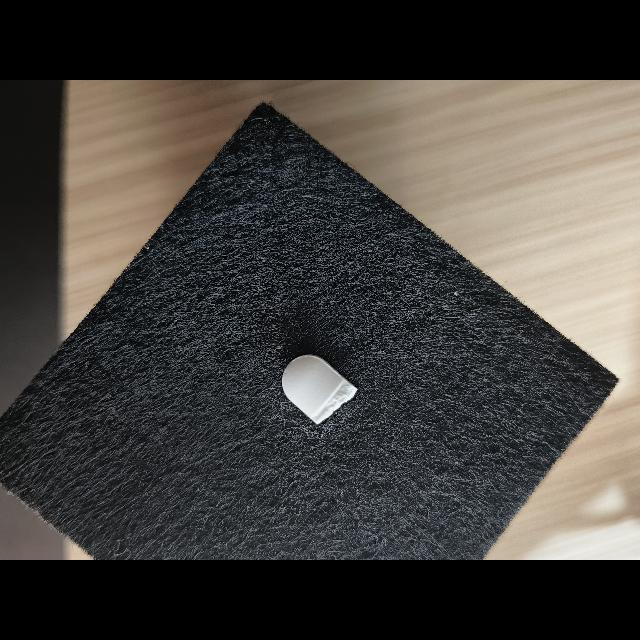Chipped Pill: (282, 354, 358, 425)
